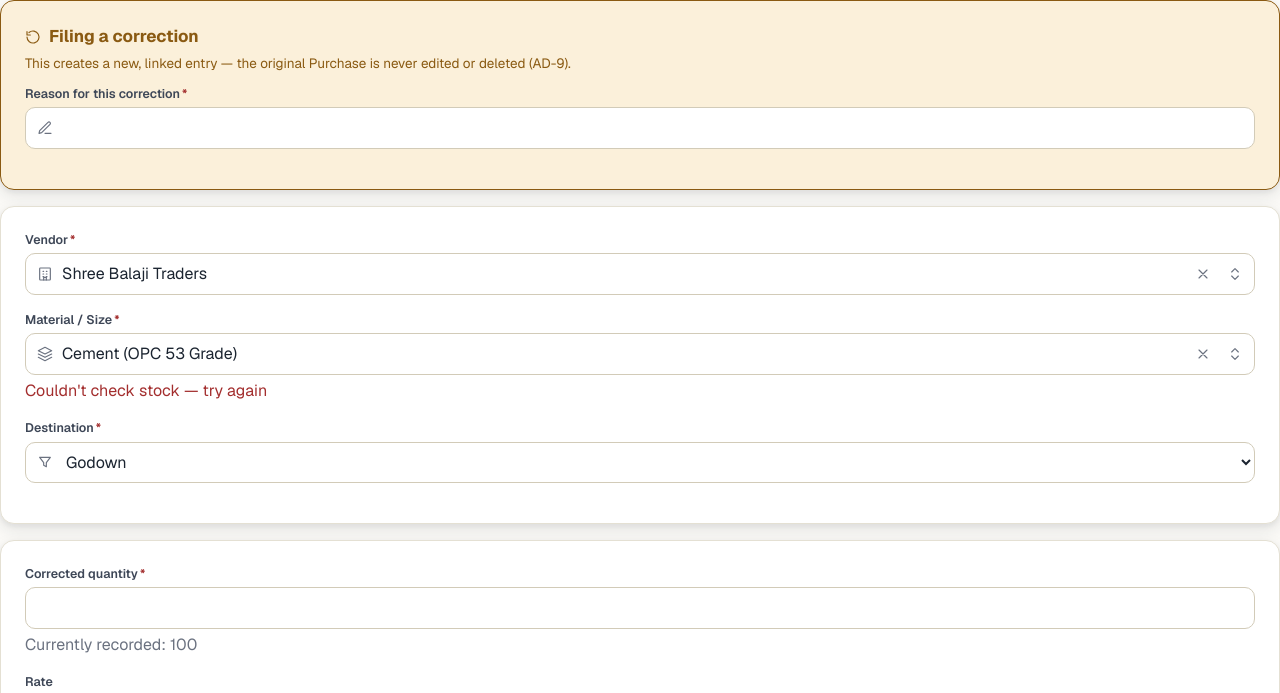
PurchaseForm › D4: correct mode asks for the corrected quantity and derives the signed delta underneath
The image size is (1280, 693).
Expected: the text "Currently recorded: 100" is shown, [25,634,197,655]
Type "80" into the number field labelled "Corrected quantity" at (640, 608), box [25,587,1255,629]
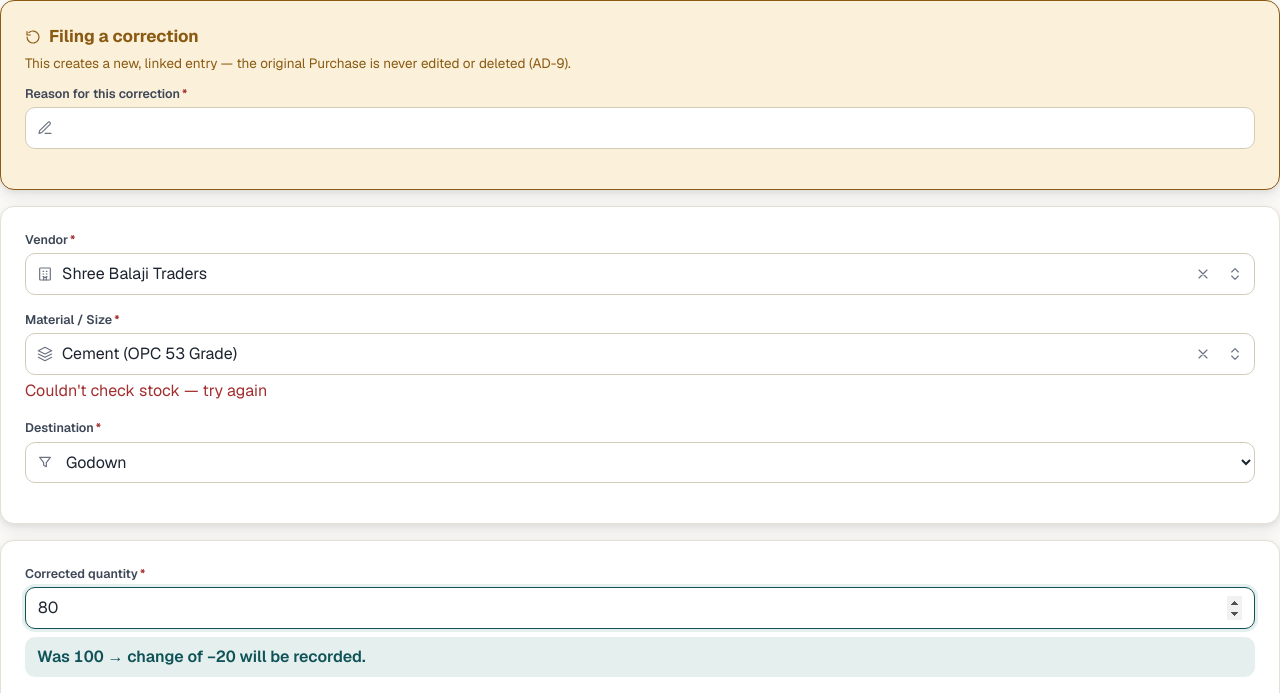
Expected: the element named "quantity" holds "-20", [25,564,1255,677]
Expected: the text "Was 100 → change of −20 will be recorded." is shown, [25,637,1255,677]
